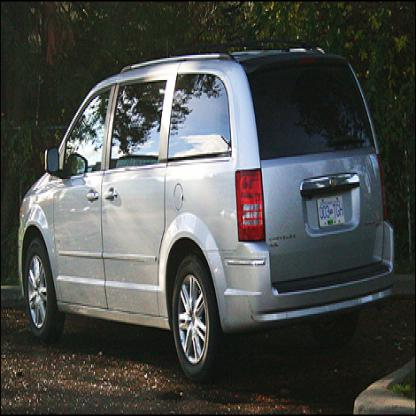Vehicle: (18, 47, 410, 383)
